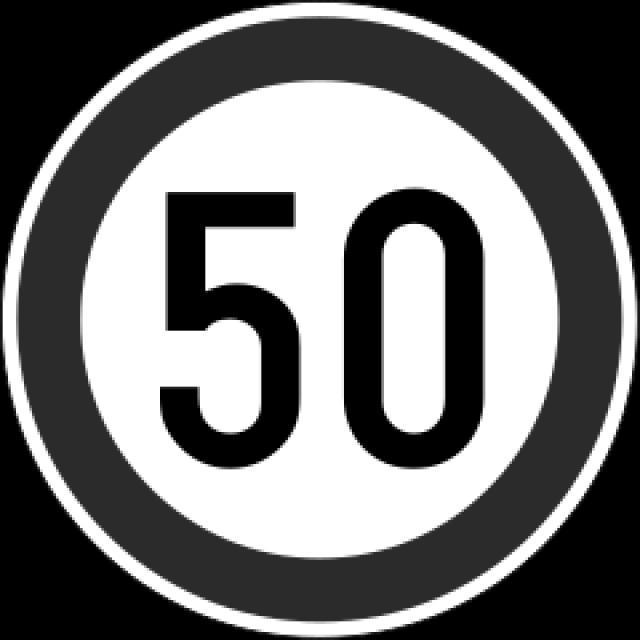speed limit 50: (21, 15, 622, 623)
